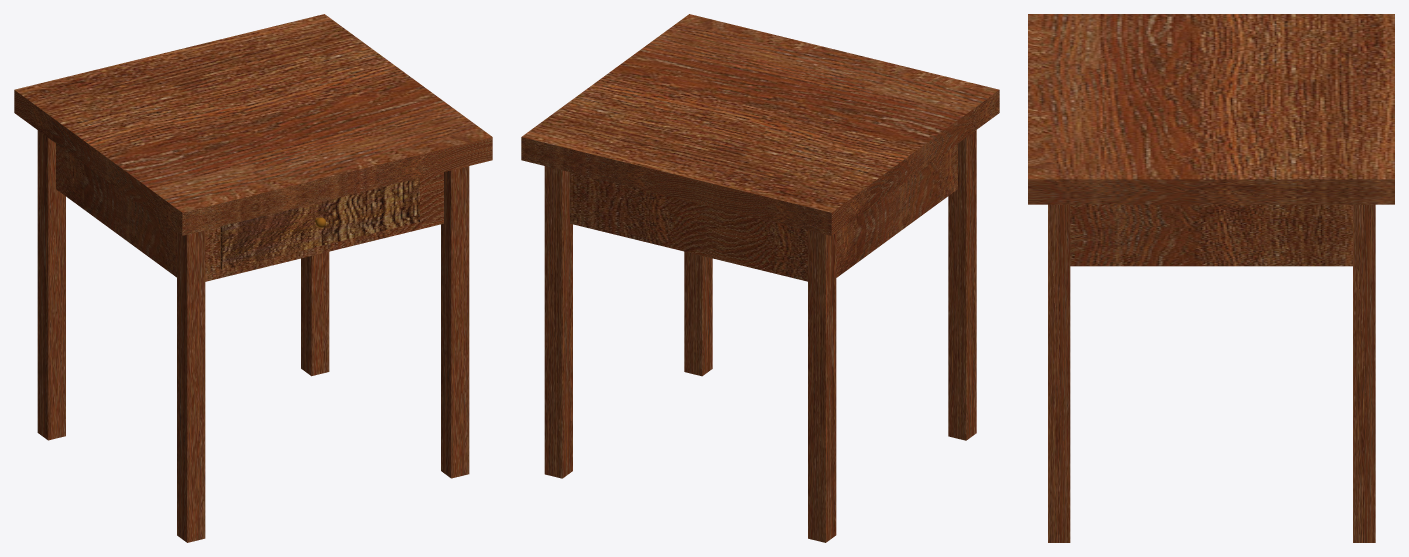
Rendered from desk.gltf.
3 views of the same model, side by side, from view 1: azimuth 30°, elevation 25°; view 2: azimuth 150°, elevation 25°; view 3: azimuth 270°, elevation 25° (orthographic). The views are drawn at different scales.
Visible parts, largest first — view 1: 큐브.004, 큐브.005, 큐브, 큐브.006, 큐브.002, 큐브.001, 큐브.003; view 2: 큐브.004, 큐브.005, 큐브.001, 큐브.003, 큐브, 큐브.002; view 3: 큐브.004, 큐브.005, 큐브.003, 큐브.002.
Part boxes in pixels (bbox=[...]): 큐브.004: bbox=[14, 14, 492, 235]; 큐브.005: bbox=[56, 144, 443, 281]; 큐브: bbox=[177, 230, 205, 542]; 큐브.006: bbox=[220, 178, 419, 269]; 큐브.002: bbox=[441, 166, 469, 478]; 큐브.001: bbox=[37, 130, 65, 440]; 큐브.003: bbox=[301, 252, 329, 376]; 큐브.004: bbox=[521, 14, 999, 235]; 큐브.005: bbox=[570, 144, 957, 281]; 큐브.001: bbox=[808, 230, 836, 542]; 큐브.003: bbox=[544, 166, 572, 478]; 큐브: bbox=[948, 130, 976, 440]; 큐브.002: bbox=[684, 251, 712, 376]; 큐브.004: bbox=[1028, 14, 1394, 204]; 큐브.005: bbox=[1070, 204, 1352, 266]; 큐브.003: bbox=[1353, 204, 1375, 542]; 큐브.002: bbox=[1048, 204, 1070, 542].
Size of the model in its own units: 34.61 by 36.26 by 32.47.
Materials: 3 (2 with a texture image).
